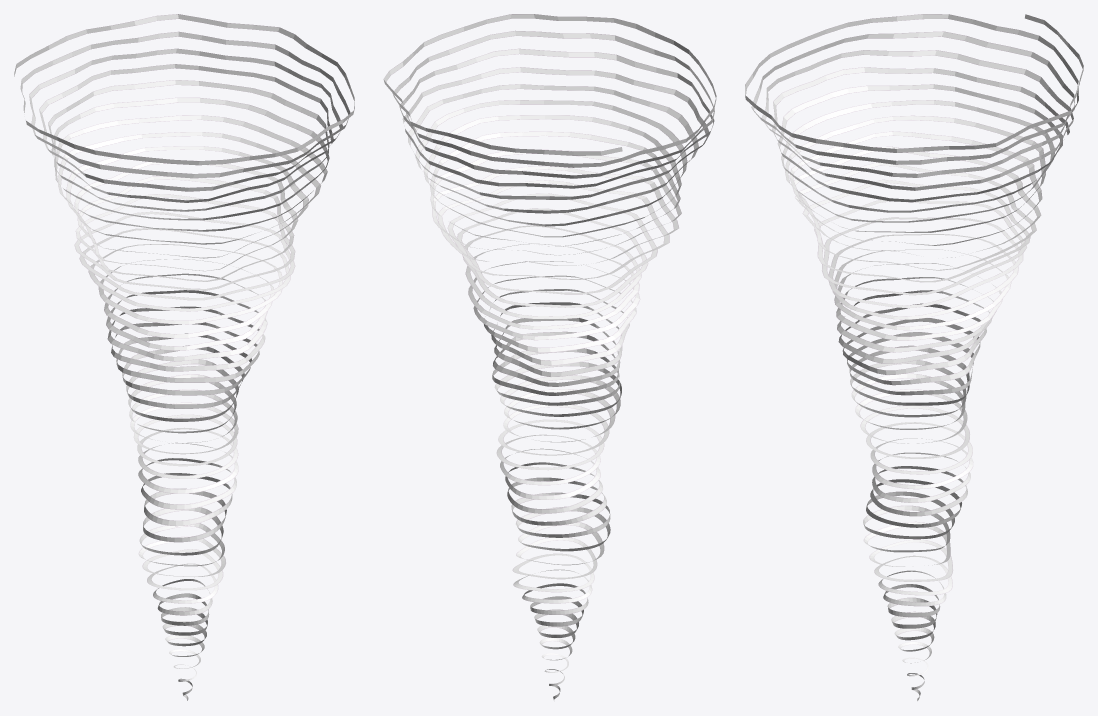
The model's file is Helix_01.fbx.
3 renders of one model, left to right at view 1: azimuth 30°, elevation 25°; view 2: azimuth 150°, elevation 25°; view 3: azimuth 270°, elevation 25°, orthographic.
Visible parts, largest first — view 1: Helix_01; view 2: Helix_01; view 3: Helix_01.
Boxes of the visible parts, box(x1,y1,x2,y2) form: Helix_01: box(14, 14, 354, 700); Helix_01: box(383, 14, 716, 701); Helix_01: box(745, 14, 1083, 700).
Size of the model in its own units: 1205 by 2490 by 1217.
Materials: 1 (1 with a texture image).
